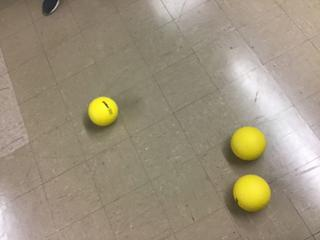power_cell: (226, 168, 279, 219), (226, 124, 266, 162), (80, 94, 122, 129)
